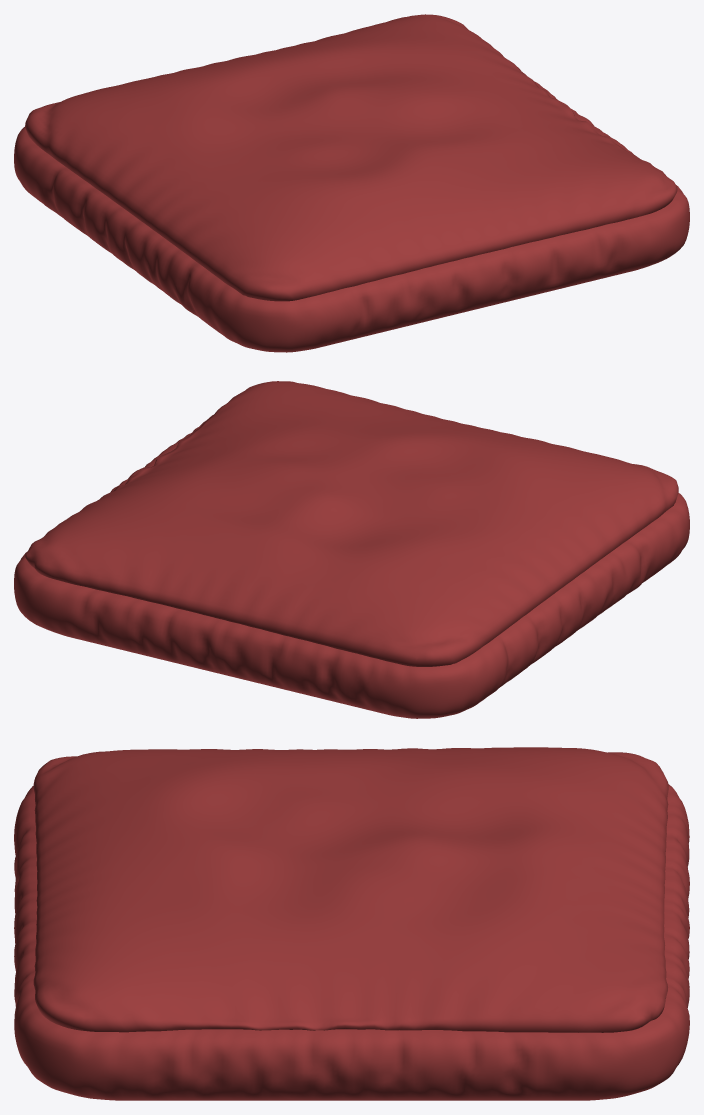
Rendered from cushion.glb.
3 renders of one model, top to bottom at view 1: azimuth 30°, elevation 25°; view 2: azimuth 150°, elevation 25°; view 3: azimuth 270°, elevation 25°, orthographic. The views are drawn at different scales.
Parts seen in each view (by area): view 1: Retopo_F_cloth_panel.004_2, Retopo_F_cloth_panel_3; view 2: Retopo_F_cloth_panel.004_2, Retopo_F_cloth_panel_3; view 3: Retopo_F_cloth_panel.004_2, Retopo_F_cloth_panel_3.
Boxes of the visible parts, box(x1,y1,x2,y2) form: Retopo_F_cloth_panel.004_2: box(25, 14, 677, 301); Retopo_F_cloth_panel_3: box(14, 72, 689, 352); Retopo_F_cloth_panel.004_2: box(25, 381, 678, 666); Retopo_F_cloth_panel_3: box(14, 414, 689, 718); Retopo_F_cloth_panel.004_2: box(33, 747, 668, 1032); Retopo_F_cloth_panel_3: box(14, 784, 689, 1100).
Size of the model in its own units: 0.4676 by 0.1018 by 0.4678.
